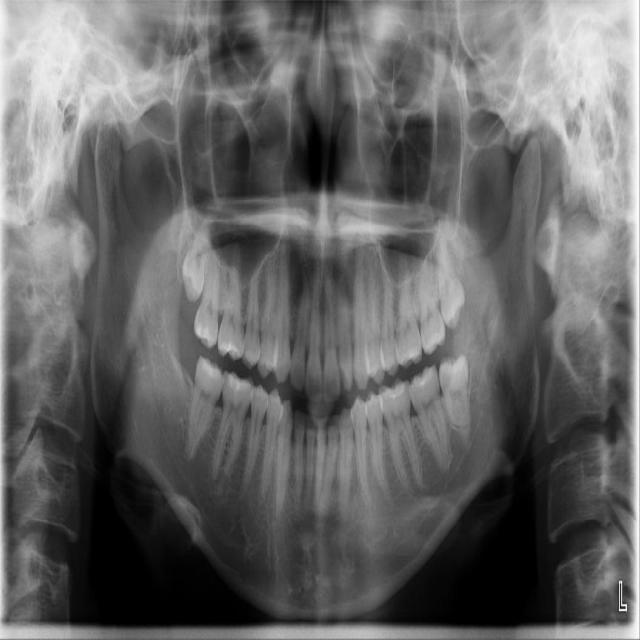3M ESPE Implant: (177, 215, 214, 304)
73: (566, 550, 573, 560)
BioHorizons Implant: (413, 251, 448, 356)
BioLife Implant: (428, 229, 471, 331)
Biomet 3i Implant: (439, 352, 472, 431)
Blue Sky Bio Implant: (404, 362, 454, 471)
Caries: (193, 246, 221, 347)
Implant: (185, 356, 226, 467)
